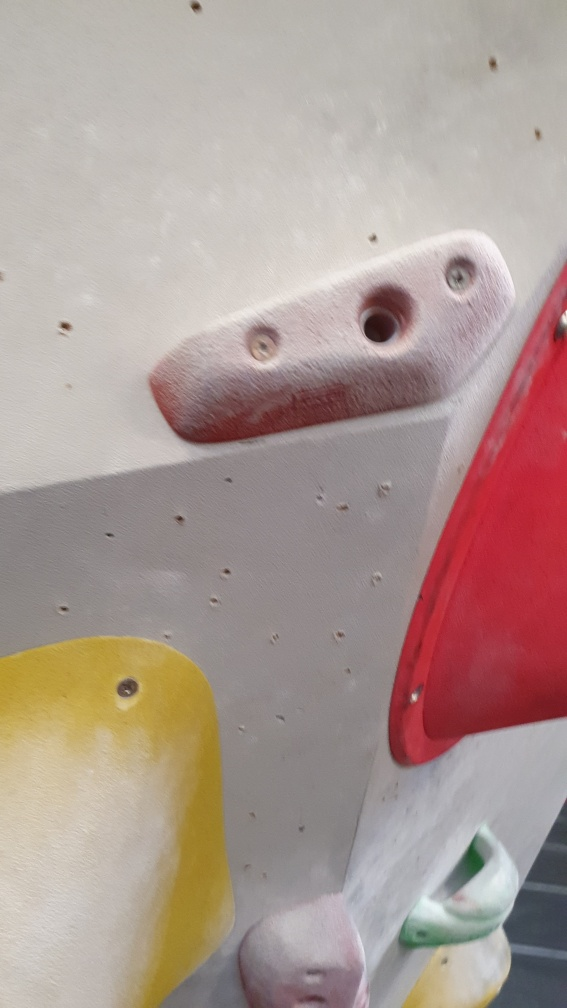Jug: (401, 825, 519, 951)
Pinch: (151, 227, 515, 443)
